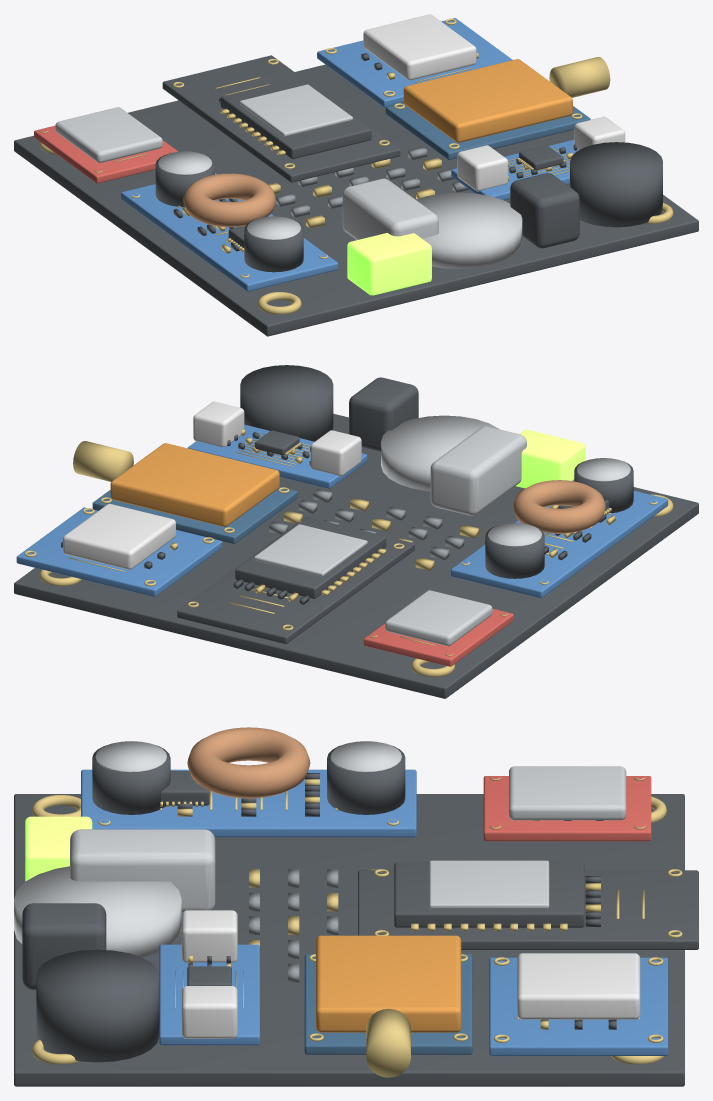
Rendered from connected-car-platform.glb.
3 views of the same model, one above another, from view 1: azimuth 30°, elevation 25°; view 2: azimuth 150°, elevation 25°; view 3: azimuth 270°, elevation 25° (orthographic). The views are drawn at different scales.
Parts seen in each view (by area): view 1: Substrate_0001, Orange_Patch_0174, Substrate_0043, Buzzer_0300, Battery_Holder_0299, Substrate_0176, GPS_Patch_0137, Fuse_0297, Terminal_0298, Substrate_0101, DC_Input_0301, Inductor_0216 (+15 smaller); view 2: Substrate_0001, Orange_Patch_0174, Substrate_0043, Fuse_0297, Substrate_0101, Buzzer_0300, Substrate_0176, GPS_Patch_0137, Battery_Holder_0299, Inductor_0216, Package_0079, Shield_0042 (+14 smaller); view 3: Substrate_0001, Substrate_0043, Orange_Patch_0174, Buzzer_0300, Substrate_0176, Substrate_0101, Fuse_0297, GPS_Patch_0137, Battery_Holder_0299, Inductor_0216, Package_0079, Shield_0042 (+16 smaller).
Part boxes in pixels (left/top/right/bottom): Substrate_0001: left=14, top=64, right=698, bottom=336; Orange_Patch_0174: left=403, top=59, right=572, bottom=142; Substrate_0043: left=162, top=55, right=400, bottom=182; Buzzer_0300: left=570, top=142, right=662, bottom=227; Battery_Holder_0299: left=416, top=192, right=522, bottom=268; Substrate_0176: left=121, top=173, right=338, bottom=291; GPS_Patch_0137: left=363, top=14, right=476, bottom=80; Fuse_0297: left=342, top=178, right=438, bottom=239; Terminal_0298: left=347, top=233, right=431, bottom=295; Substrate_0101: left=317, top=18, right=512, bottom=107; DC_Input_0301: left=510, top=173, right=579, bottom=248; Inductor_0216: left=183, top=173, right=275, bottom=227; Substrate_0001: left=14, top=413, right=698, bottom=698; Orange_Patch_0174: left=110, top=443, right=279, bottom=526; Substrate_0043: left=177, top=517, right=414, bottom=643; Fuse_0297: left=430, top=426, right=526, bottom=515; Substrate_0101: left=16, top=507, right=222, bottom=596; Buzzer_0300: left=240, top=365, right=333, bottom=441; Substrate_0176: left=450, top=479, right=667, bottom=598; GPS_Patch_0137: left=63, top=503, right=175, bottom=569; Battery_Holder_0299: left=381, top=415, right=499, bottom=491; Inductor_0216: left=513, top=480, right=605, bottom=533; Package_0079: left=235, top=517, right=386, bottom=598; Shield_0042: left=385, top=590, right=492, bottom=646; Substrate_0001: left=14, top=794, right=684, bottom=1086; Substrate_0043: left=358, top=870, right=698, bottom=949; Orange_Patch_0174: left=316, top=935, right=461, bottom=1032; Buzzer_0300: left=36, top=949, right=159, bottom=1062; Substrate_0176: left=81, top=769, right=416, bottom=837; Substrate_0101: left=489, top=957, right=668, bottom=1055; Fuse_0297: left=70, top=829, right=215, bottom=913; GPS_Patch_0137: left=517, top=953, right=640, bottom=1019; Battery_Holder_0299: left=14, top=866, right=181, bottom=958; Inductor_0216: left=187, top=727, right=310, bottom=798; Package_0079: left=394, top=862, right=584, bottom=927; Shield_0042: left=509, top=766, right=626, bottom=820.
Bounding box in the file's own units: 0.13 × 0.0184 × 0.1225.
